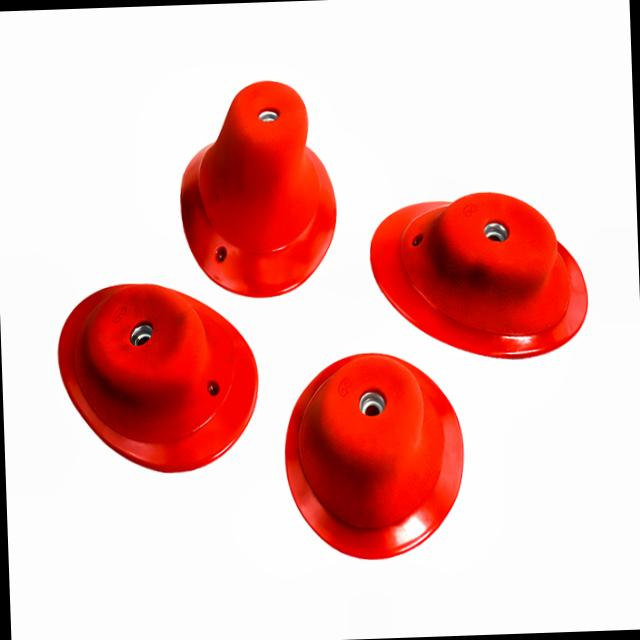Hold: (52, 276, 270, 476), (366, 182, 596, 364), (282, 352, 464, 562), (176, 78, 338, 303)
